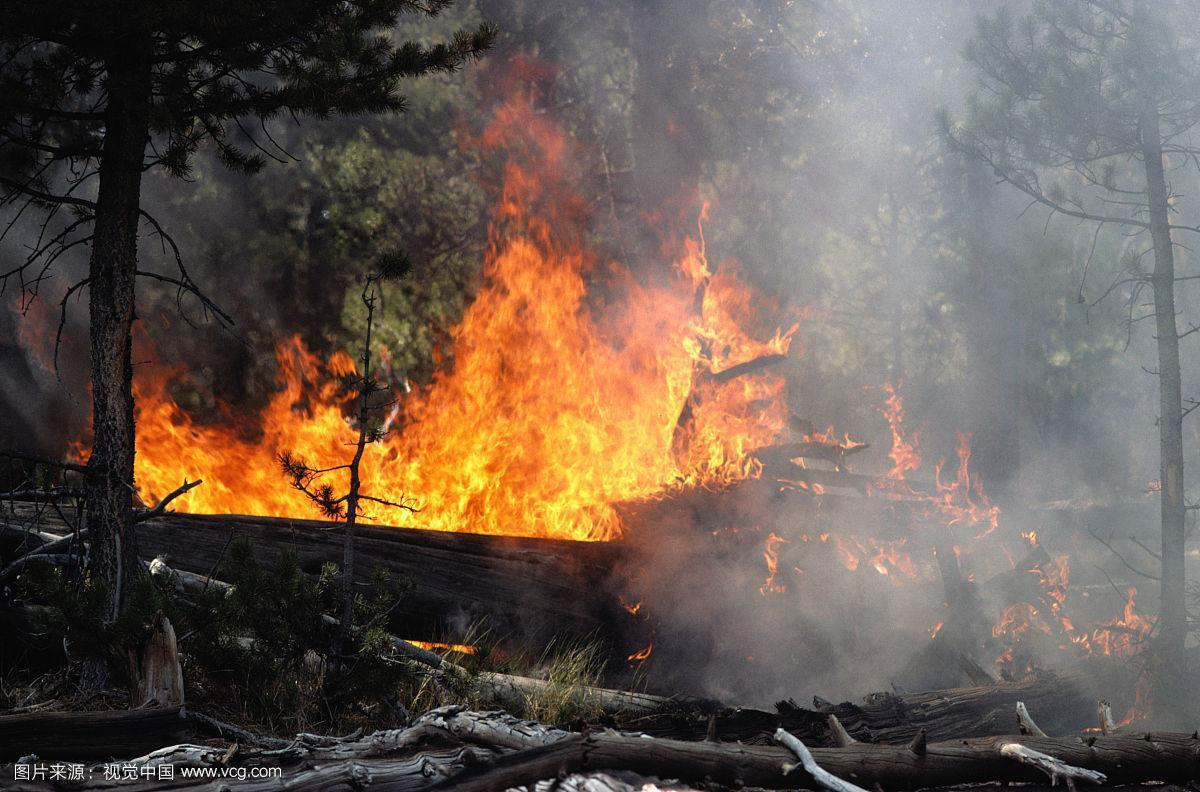fire: (110, 104, 788, 555), (575, 382, 1175, 692)
